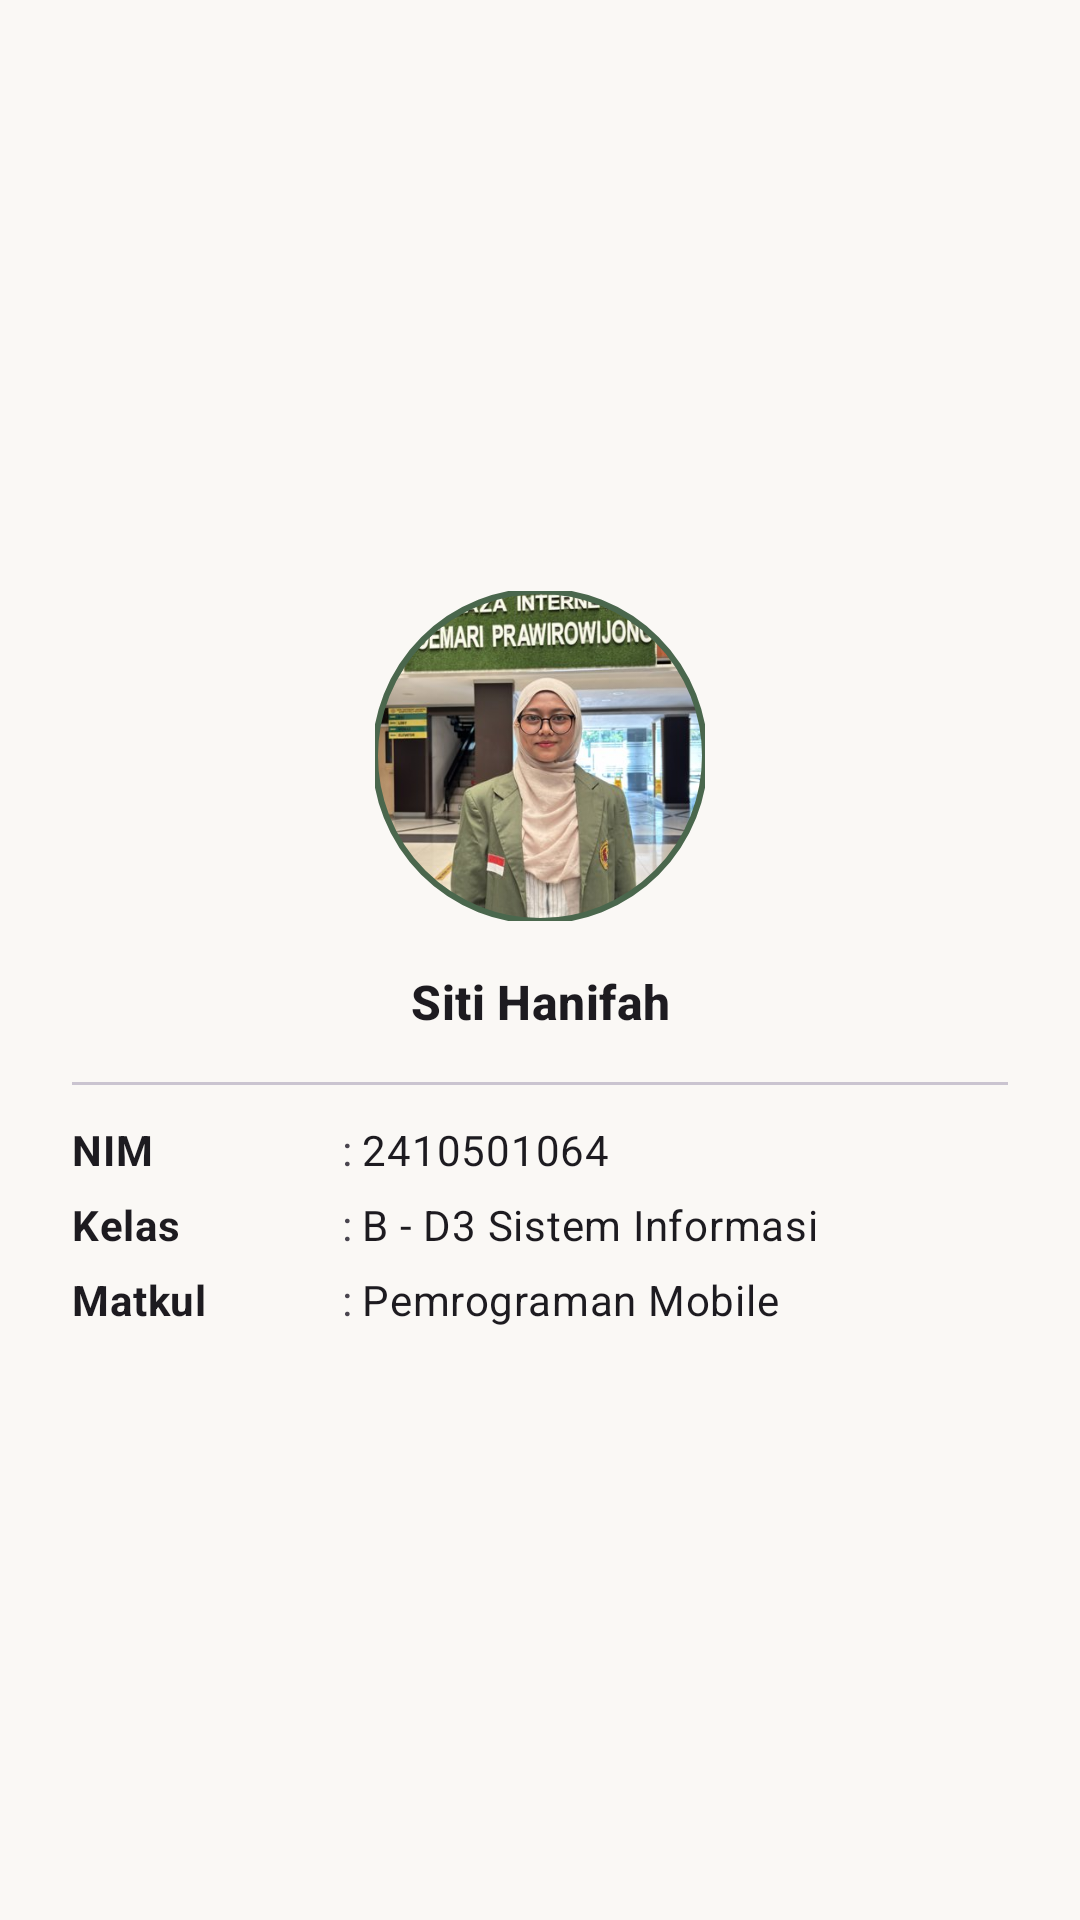

Point at icon controls on the screen. Image size 1080x1920, points as point (x, y).
foto profil: point (540, 756)
